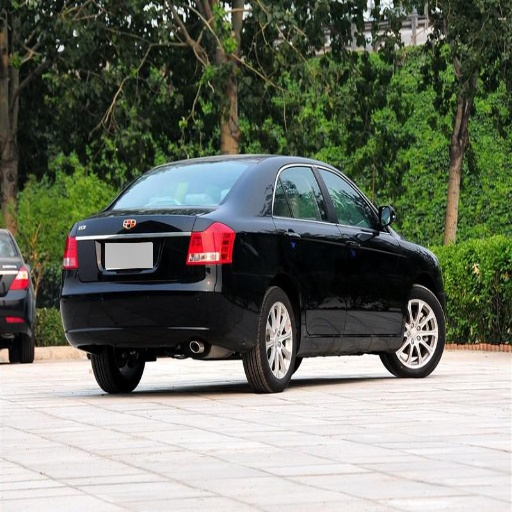back_bumper: (59, 290, 258, 343)
back_right_door: (273, 163, 345, 341)
tailgate: (70, 210, 196, 284)
trunk: (81, 216, 215, 304)
